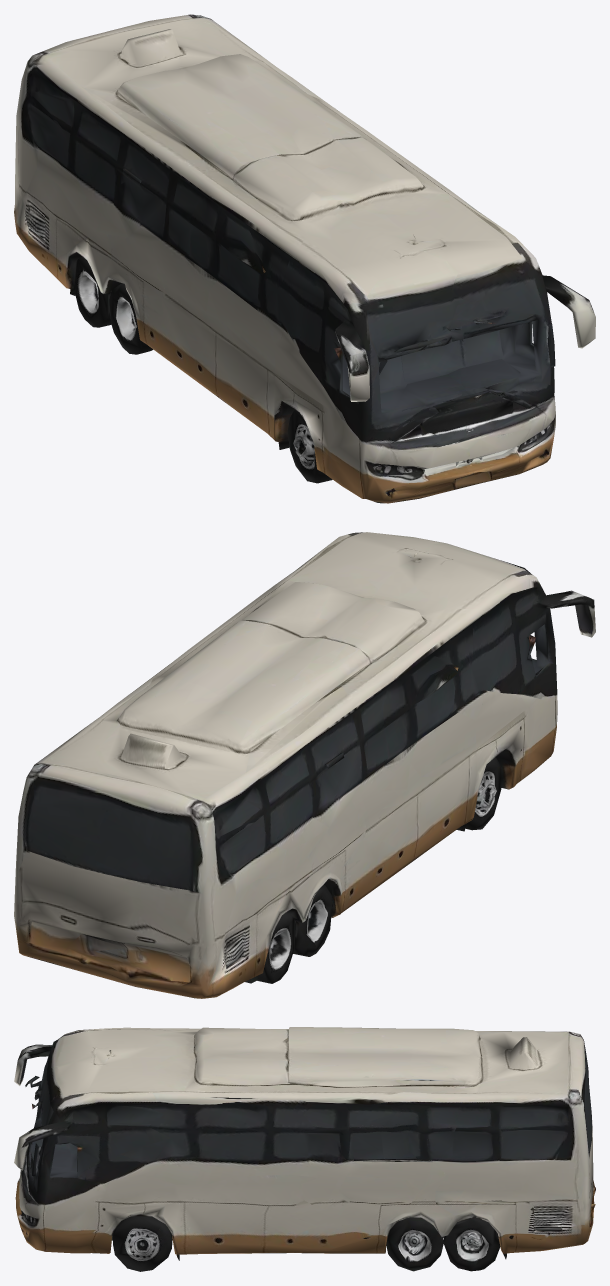
Rendered from coach.glb.
3 views of the same model, one above another, from view 1: azimuth 30°, elevation 25°; view 2: azimuth 150°, elevation 25°; view 3: azimuth 270°, elevation 25° (orthographic). The views are drawn at different scales.
Visible parts, largest first — view 1: tripo_node_3d4cb42c-1ec0-43f7-8723-cd62a2927b9f; view 2: tripo_node_3d4cb42c-1ec0-43f7-8723-cd62a2927b9f; view 3: tripo_node_3d4cb42c-1ec0-43f7-8723-cd62a2927b9f.
Part boxes in pixels (x1=…): tripo_node_3d4cb42c-1ec0-43f7-8723-cd62a2927b9f: x1=14, y1=14, x2=595, y2=503; tripo_node_3d4cb42c-1ec0-43f7-8723-cd62a2927b9f: x1=14, y1=532, x2=595, y2=998; tripo_node_3d4cb42c-1ec0-43f7-8723-cd62a2927b9f: x1=14, y1=1027, x2=595, y2=1271.
Size of the model in its own units: 0.3803 by 0.3669 by 0.9993.
Materials: 1 (1 with a texture image).
